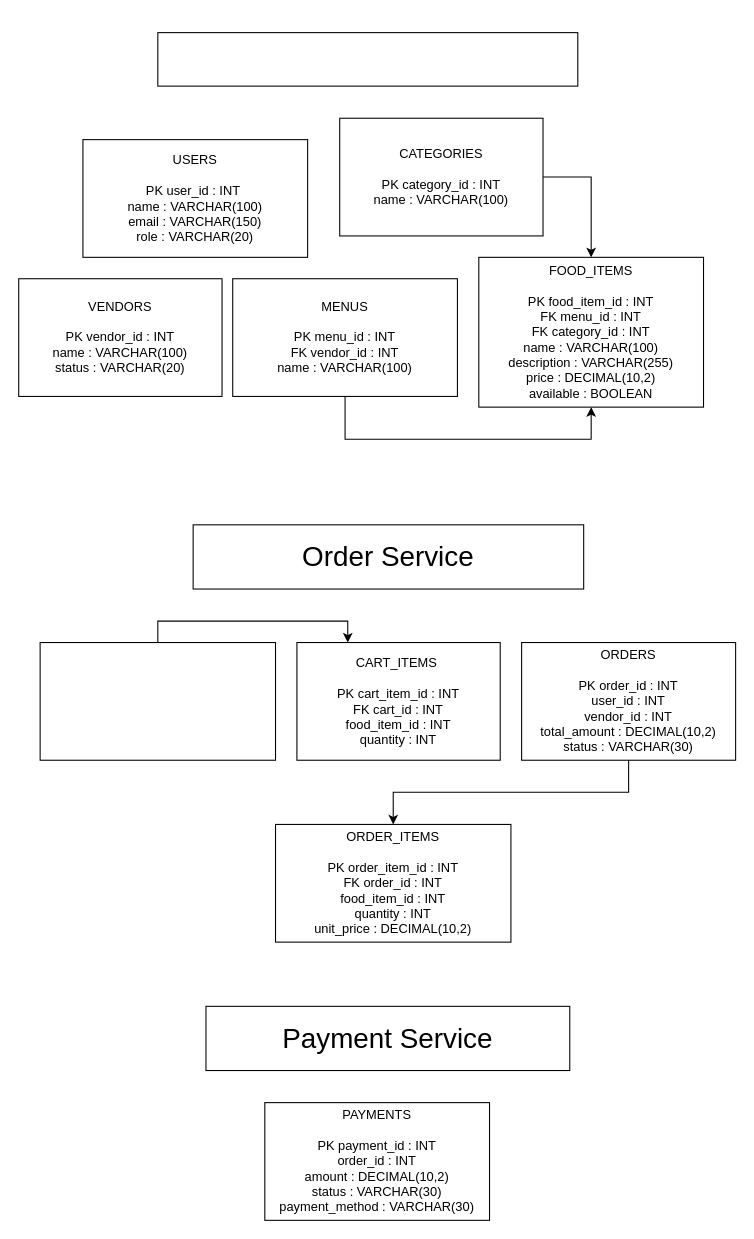
Some shapes in this 754 by 1239 pixel diagram are drawn without their labels. Here are the shapes that lost their labels. From the top down, the box of each, then its label:
(157, 32, 578, 86): User & Admin Service
(39, 641, 276, 760): CARTS PK cart_id : INT User_id : INT Status : VARCHAR(20)
